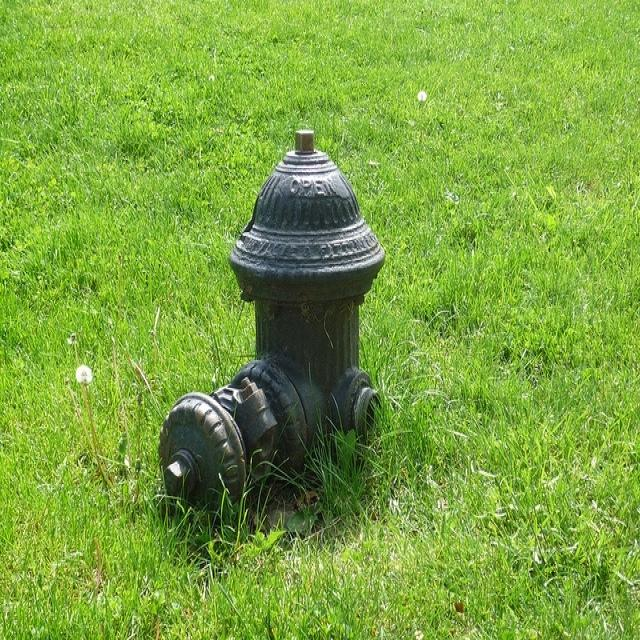fire_hydrant: (150, 114, 427, 602)
